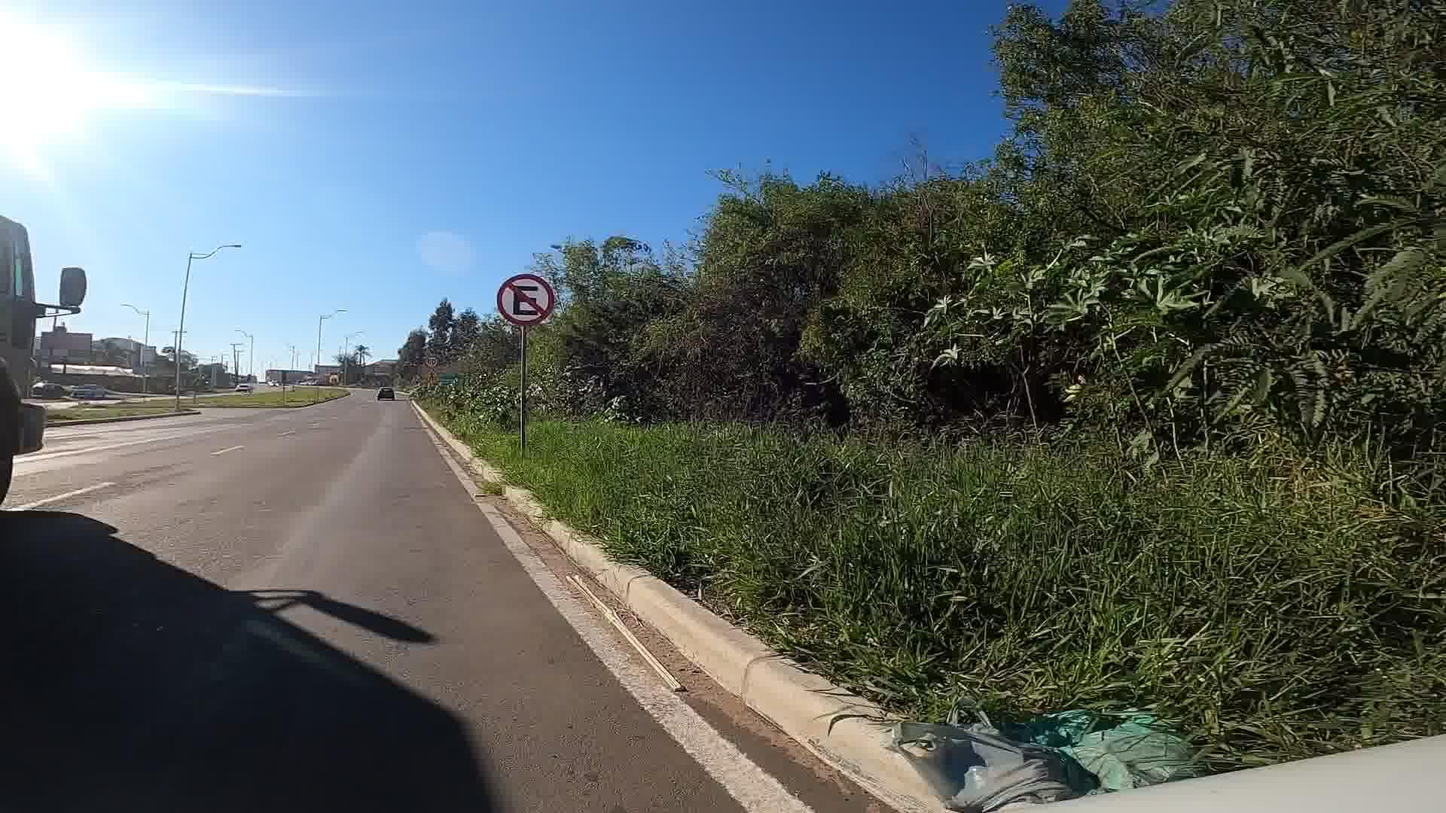R-6a: (494, 273, 558, 327)
